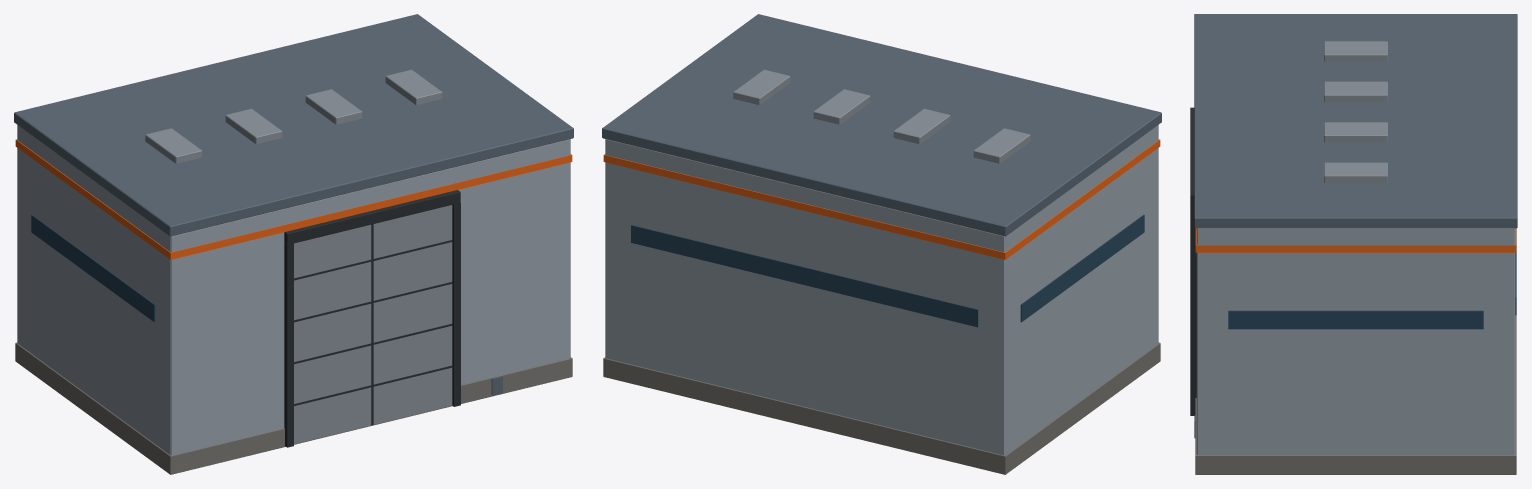
Rendered from Scenery_Hangar.fbx.
3 renders of one model, left to right at view 1: azimuth 30°, elevation 25°; view 2: azimuth 150°, elevation 25°; view 3: azimuth 270°, elevation 25°, orthographic. The views are drawn at different scales.
Visible parts, largest first — view 1: Scenery_Hangar; view 2: Scenery_Hangar; view 3: Scenery_Hangar.
Boxes of the visible parts, box(x1,y1,x2,y2) form: Scenery_Hangar: box(14, 14, 573, 474); Scenery_Hangar: box(602, 14, 1161, 474); Scenery_Hangar: box(1190, 14, 1517, 474).
Bounding box in the file's own units: 60.6 × 36.7 × 41.1.
